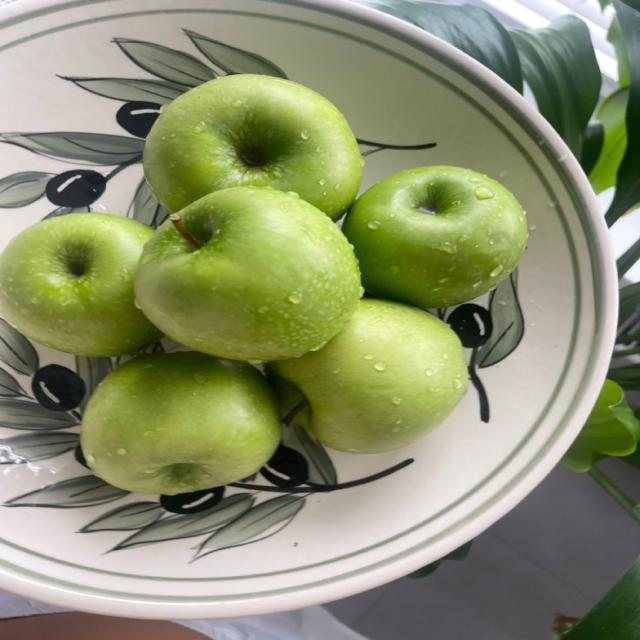apple: (135, 187, 361, 360), (144, 75, 362, 219), (268, 299, 467, 453), (81, 352, 280, 494), (343, 166, 527, 307), (0, 214, 160, 356)
